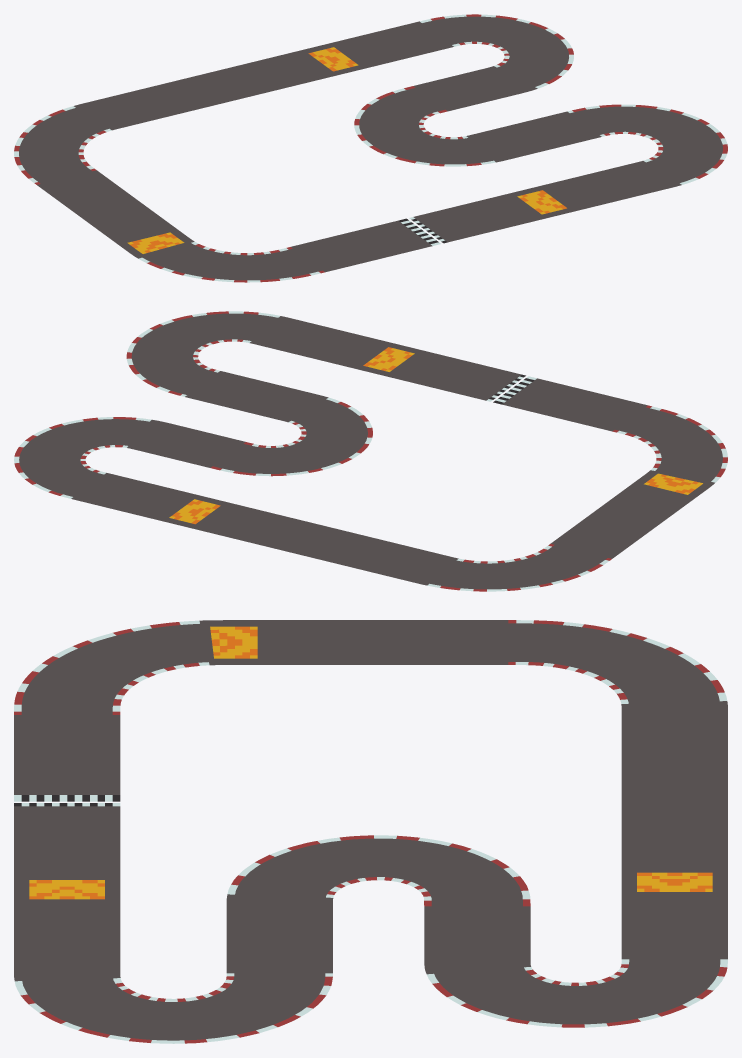
The model's file is road.glb.
The picture shows the model from 3 angles, top to bottom: view 1: azimuth 30°, elevation 25°; view 2: azimuth 150°, elevation 25°; view 3: azimuth 270°, elevation 25°; orthographic projection. The views are drawn at different scales.
Parts seen in each view (by area): view 1: road; view 2: road; view 3: road.
Boxes of the visible parts, bbox=[...] form: road: bbox=[14, 14, 727, 282]; road: bbox=[14, 311, 727, 591]; road: bbox=[14, 620, 727, 1043].
Bounding box in the file's own units: 66 × 0 × 47.
